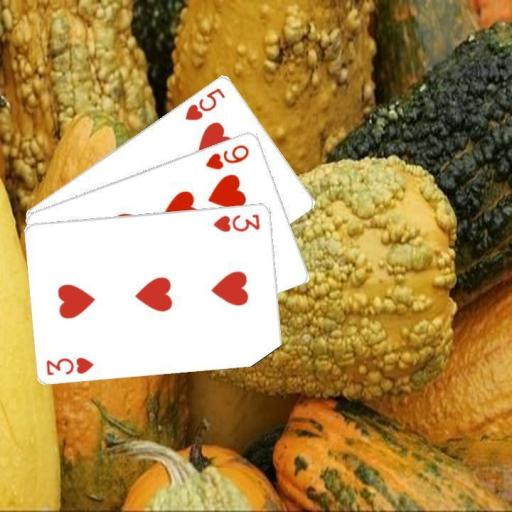card-corner: (182, 84, 227, 122), (202, 140, 251, 170), (210, 210, 262, 234), (44, 353, 96, 377)
